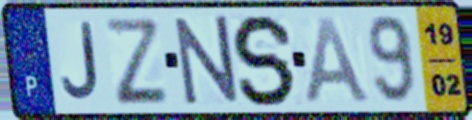9: (365, 13, 419, 106)
A: (302, 14, 374, 106)
J: (58, 19, 103, 103)
N: (171, 13, 242, 109)
S: (230, 12, 300, 109)
Z: (101, 15, 171, 107)
